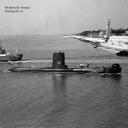submarine: (9, 53, 122, 74)
